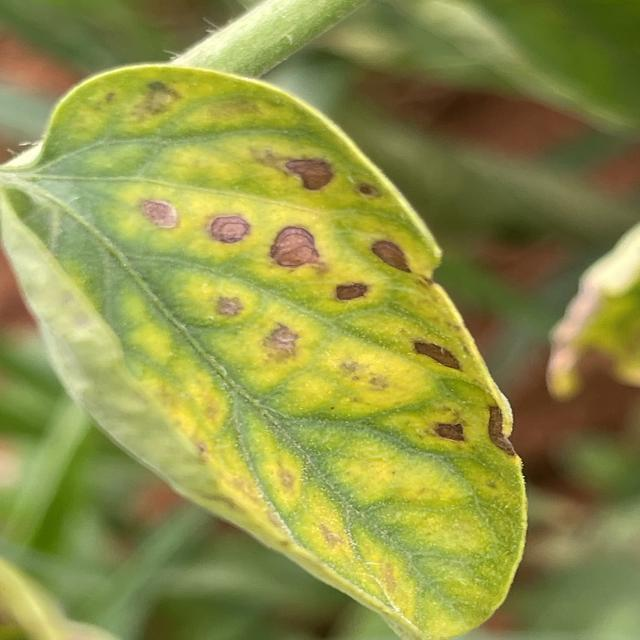tomato_early blight: (1, 63, 526, 640)
